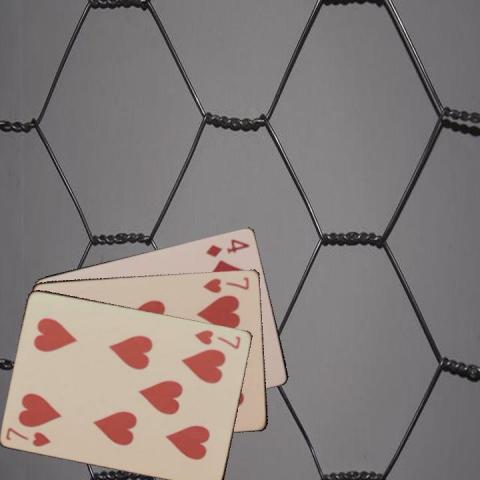4d: (203, 235, 251, 259)
7h: (192, 326, 243, 350), (2, 424, 52, 448), (200, 273, 250, 294)
